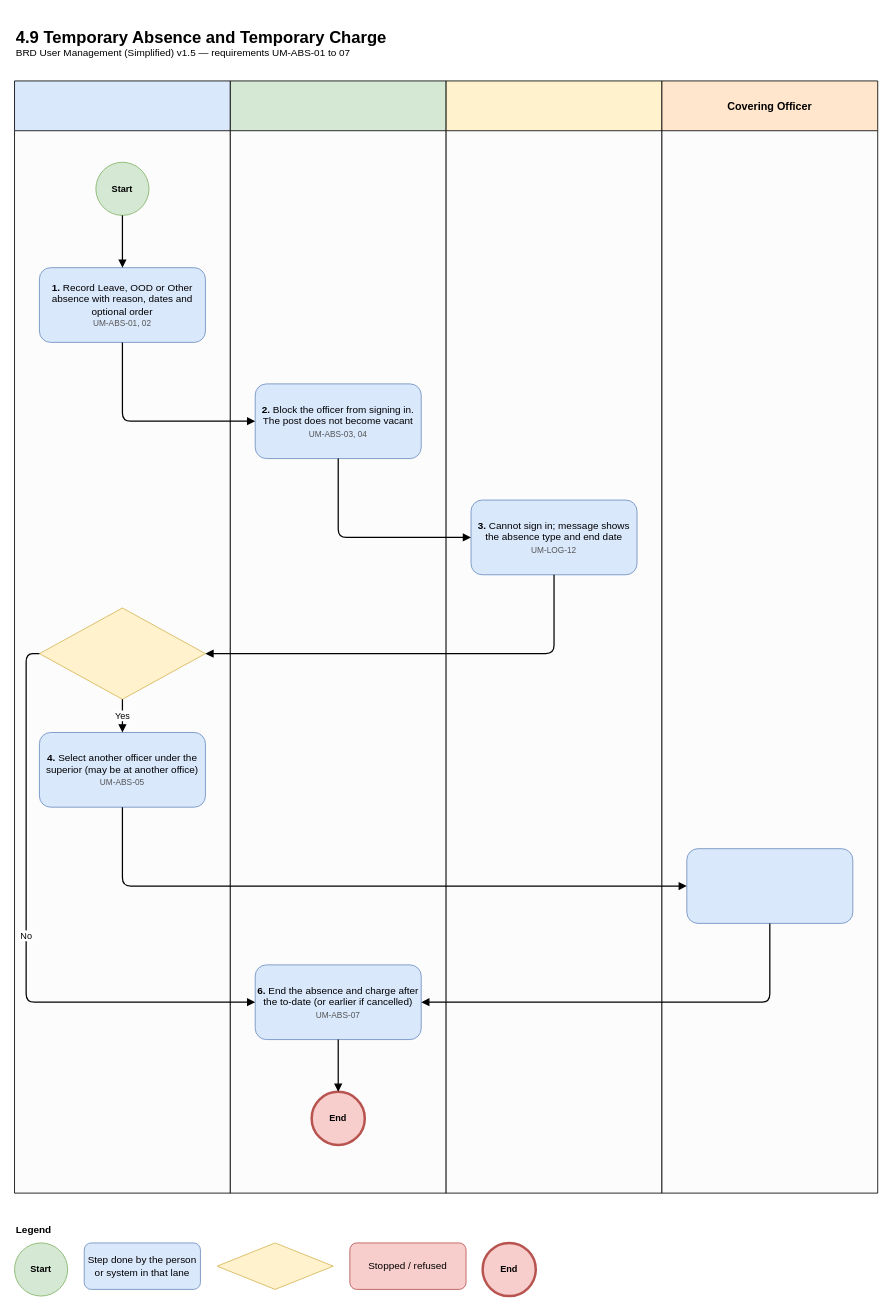
The diagram is 892 pixels wide and 1311 high, and some of its shapes have lost their labels. The shapes that lost their labels are listed below. From the top down, each one's box as (x1, y1, x2, y2) in pixels, then its label:
(14, 80, 230, 1193): Superior Officer
(39, 607, 205, 699): Give temporary charge? UM-ABS-05
(229, 80, 446, 1193): Kaveri System
(445, 80, 662, 1193): Absent Officer
(686, 848, 853, 923): 5. Sees 'Temporary charge' at sign-in and does only that post's work UM-ABS-06
(216, 1242, 333, 1289): Check / choice
